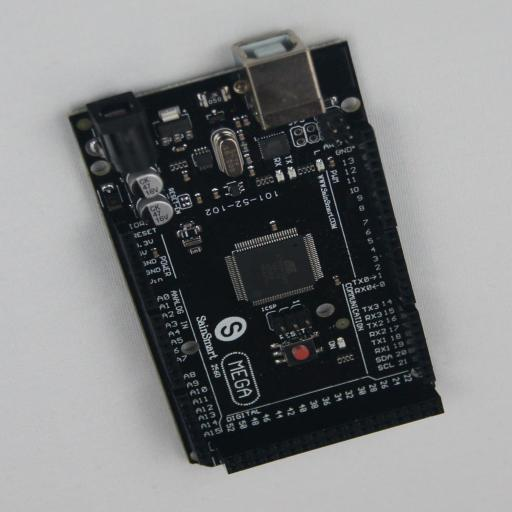Arduino Mega 2560 -Black-: (68, 33, 444, 474)
